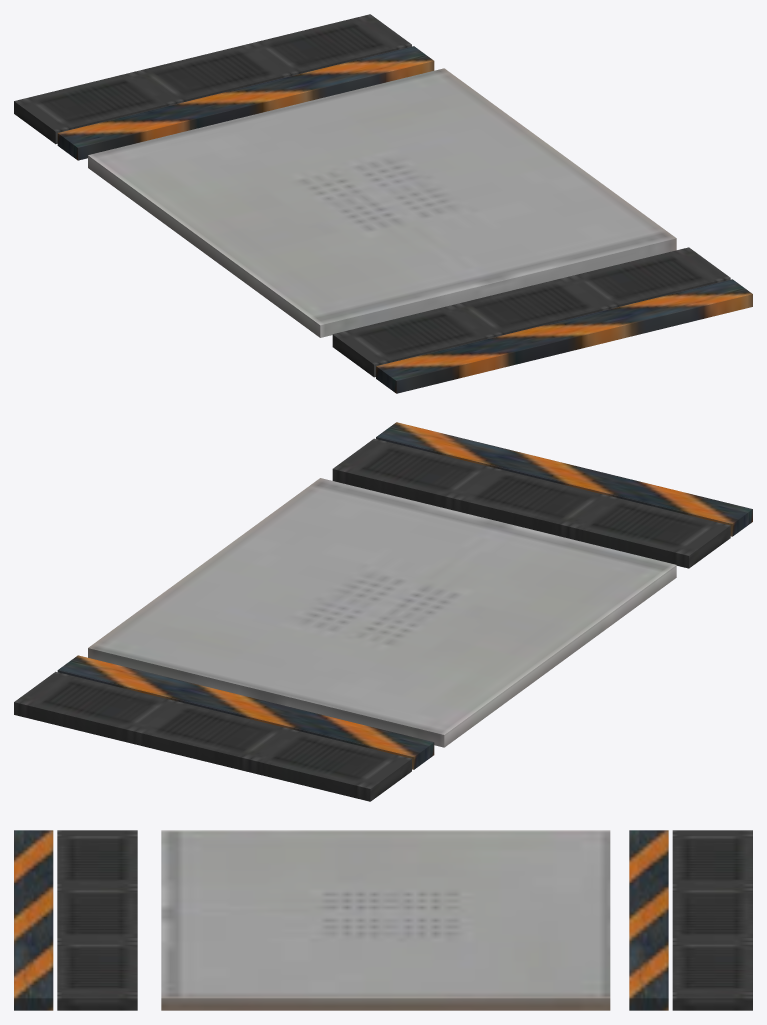
Rendered from colony-bridge-fragment-art.glb.
3 views of the same model, one above another, from view 1: azimuth 30°, elevation 25°; view 2: azimuth 150°, elevation 25°; view 3: azimuth 270°, elevation 25° (orthographic). The views are drawn at different scales.
Parts seen in each view (by area): view 1: Colony_Bridge_Fragment_Art; view 2: Colony_Bridge_Fragment_Art; view 3: Colony_Bridge_Fragment_Art.
Part boxes in pixels (x1,y1,x2,y2): Colony_Bridge_Fragment_Art: [14, 14, 752, 393]; Colony_Bridge_Fragment_Art: [14, 422, 752, 801]; Colony_Bridge_Fragment_Art: [14, 830, 752, 1010].
Bounding box in the file's own units: 2.77 × 0.0942 × 5.14.
Materials: 1 (1 with a texture image).
